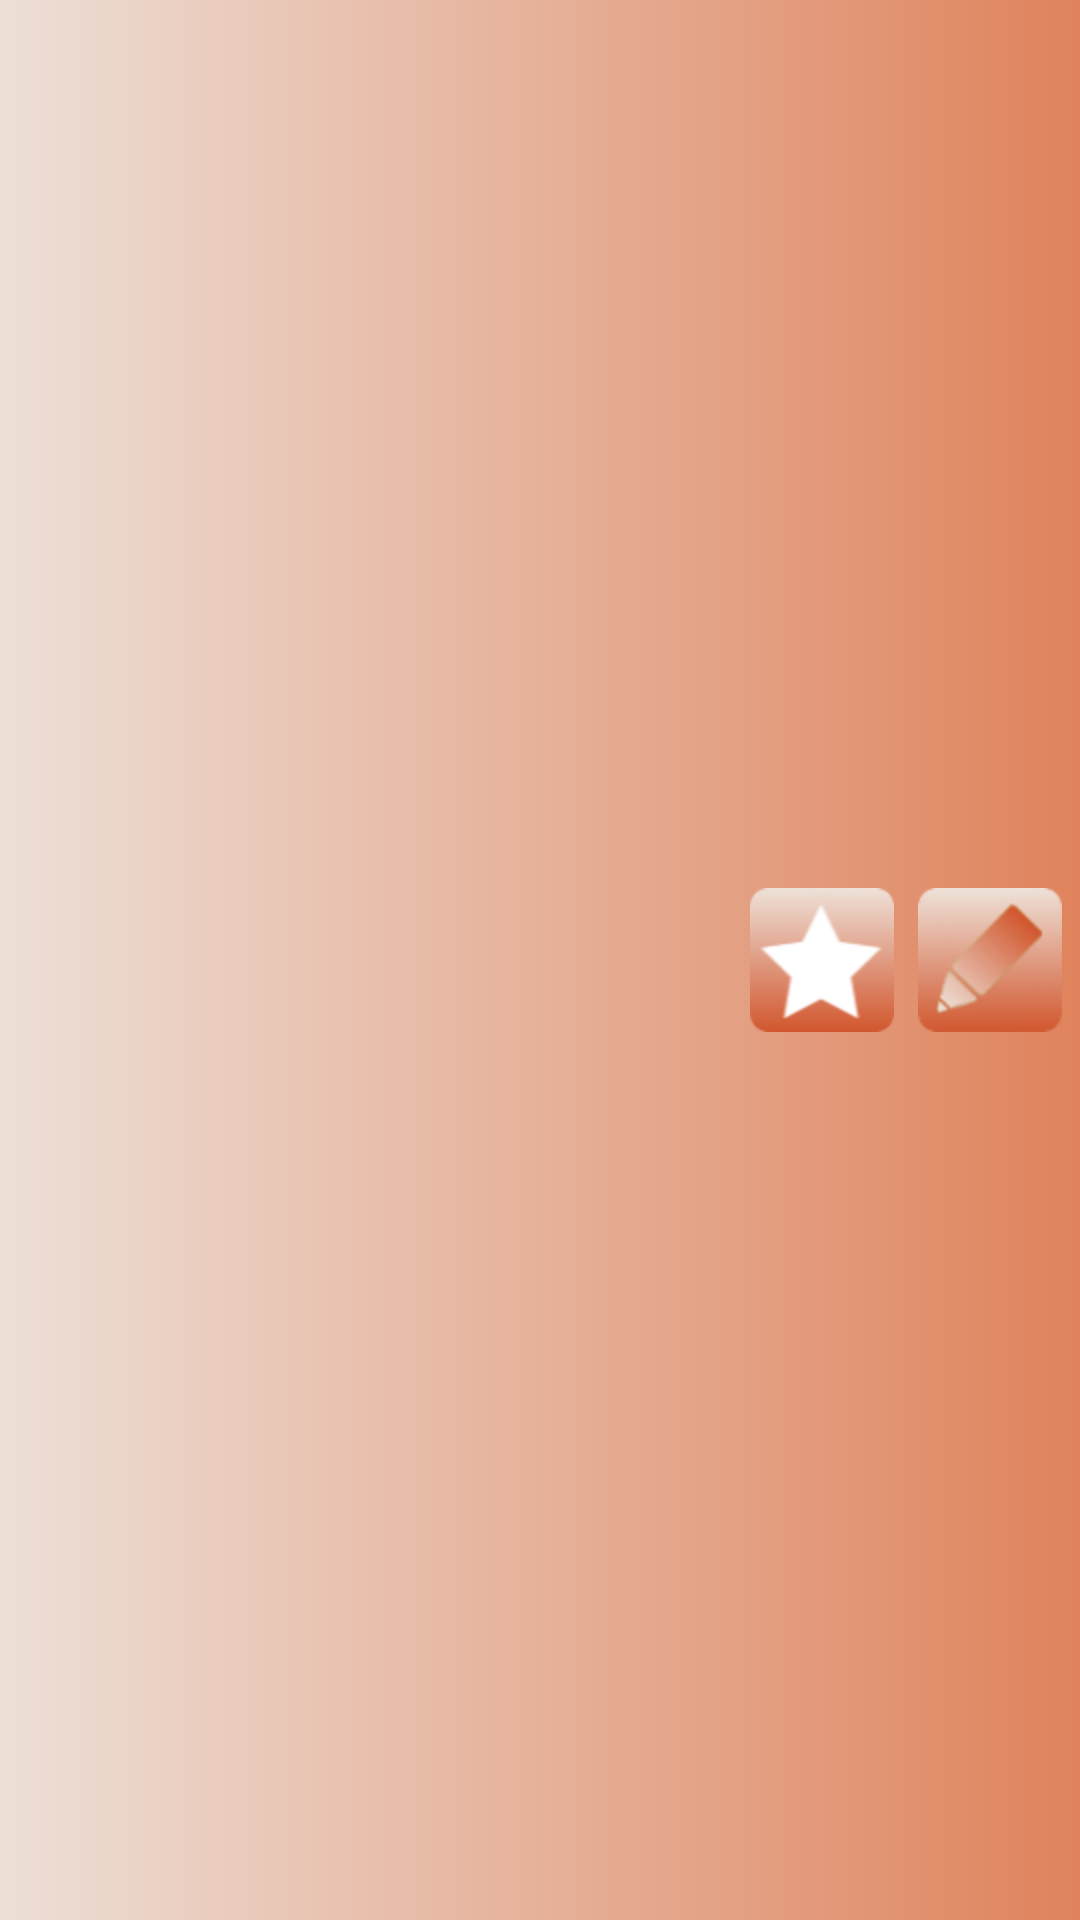

Icon click points for this 1080x1920 phone screenshot, format [x,y]:
edit: [990,960]
